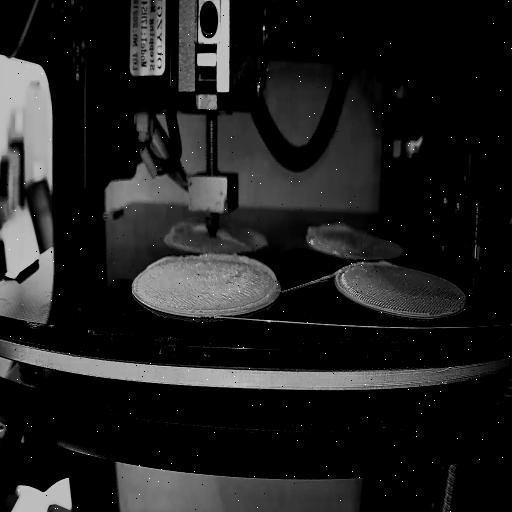over_extrusion: (196, 252, 280, 316), (306, 220, 356, 239), (146, 254, 178, 274), (214, 228, 246, 246), (370, 261, 400, 273), (193, 220, 207, 236)
